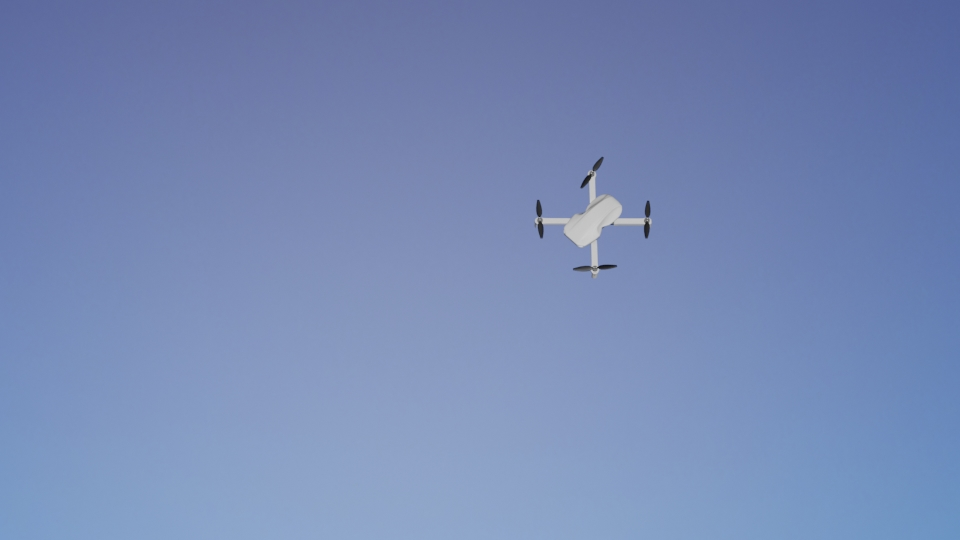drone: (532, 152, 658, 278)
